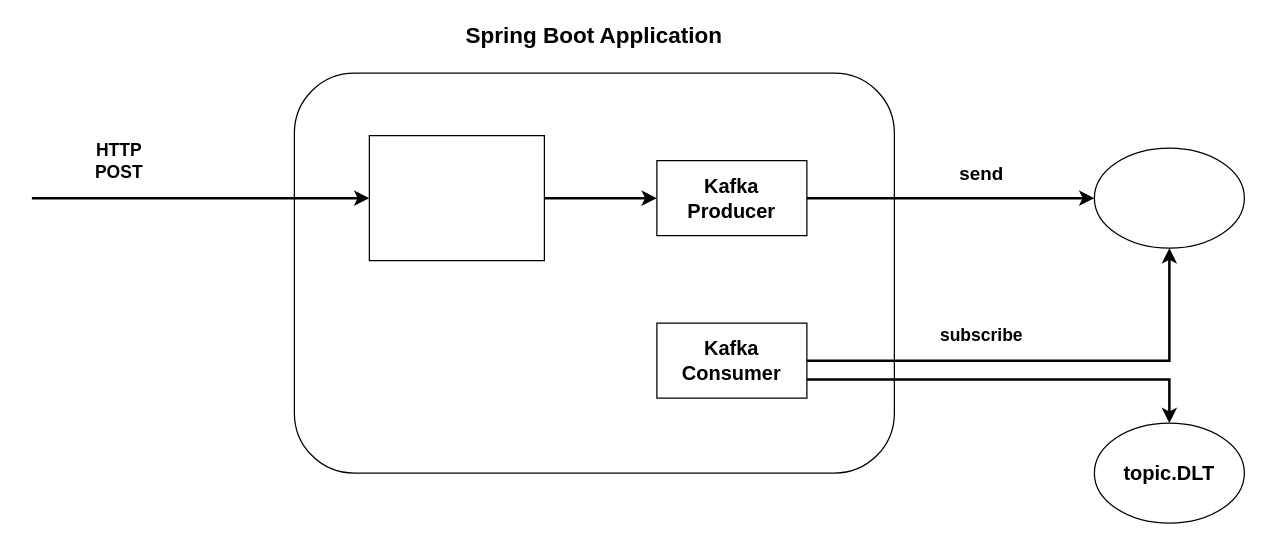
This 1266x545 diagram has some shape labels left out. Each missing label, with the centre of its shape:
Rest Controller: [456,197]
topic: [1168,197]
